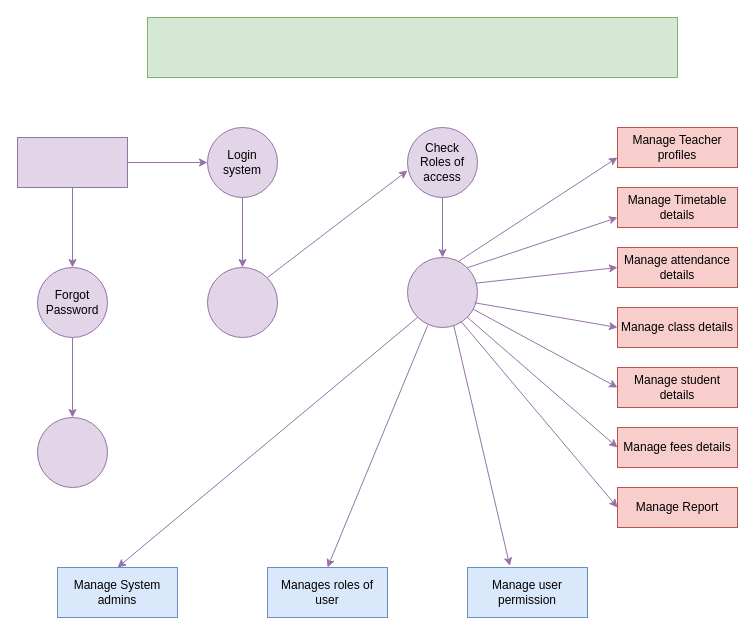
Image size: 755x635. Some labels were removed from this diagram. Each missing label, with the box of its shape:
Admin: (16, 136, 128, 188)
Check credentials: (206, 266, 278, 338)
Manage modules: (406, 256, 478, 328)
Send email to user: (36, 416, 108, 488)
Student Information System: (146, 16, 678, 78)
